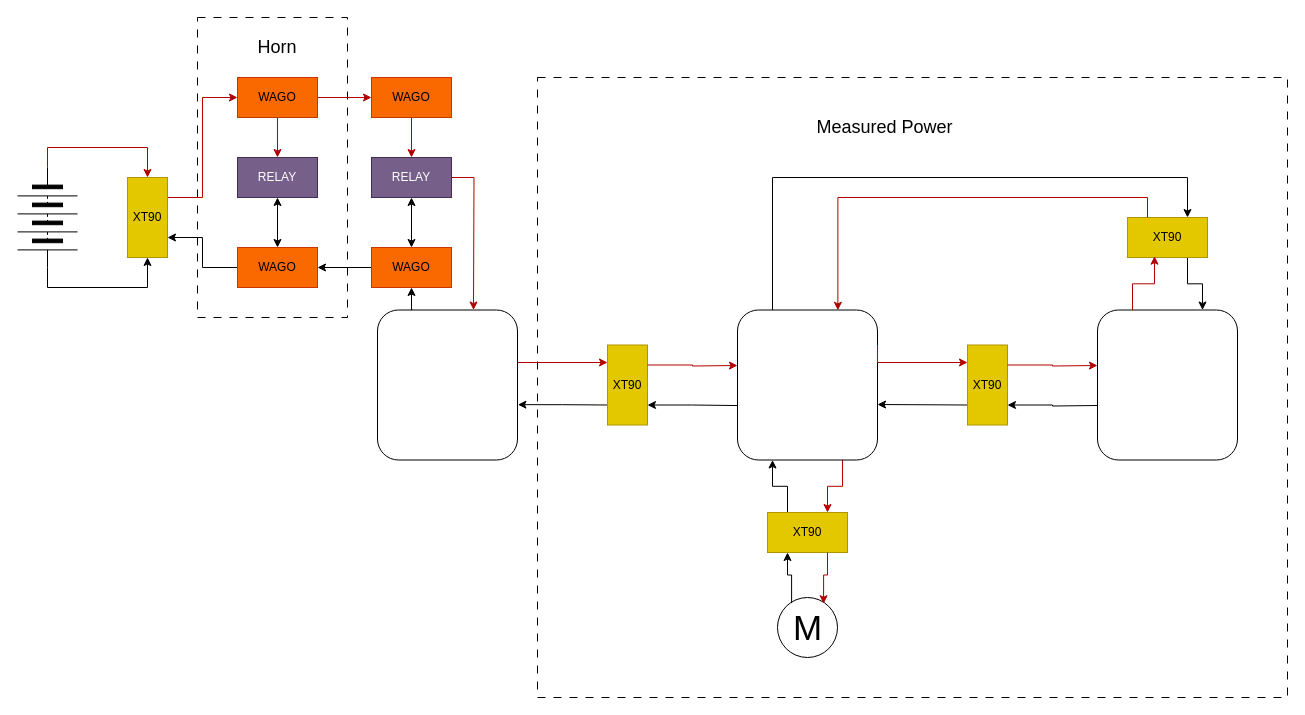
The diagram is 1305 pixels wide and 715 high, and some of its shapes have lost their labels. The shapes that lost their labels are listed below. From the top down, each one's centre as x and y in pixels, then its label:
the point at 447,384: Joulemeter
the point at 807,384: DAQ
the point at 1167,384: Power Electronics
